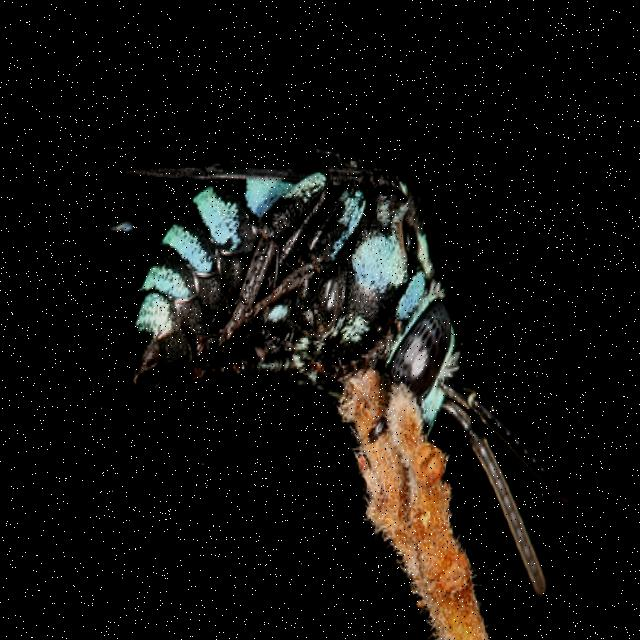Thyreus: (95, 121, 592, 603)
